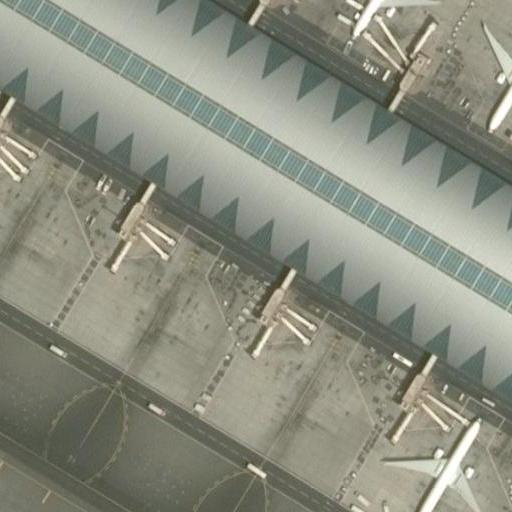Aircraft: (379, 404, 501, 509), (464, 3, 512, 141), (325, 0, 443, 47)
